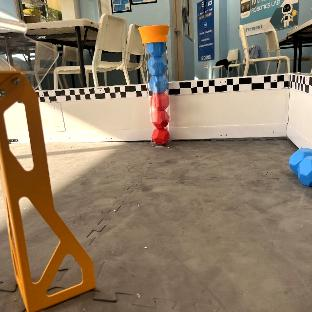Goal: (0, 69, 96, 312)
V5_BLUE: (289, 148, 312, 185)
V5_RED: (150, 91, 169, 142)
